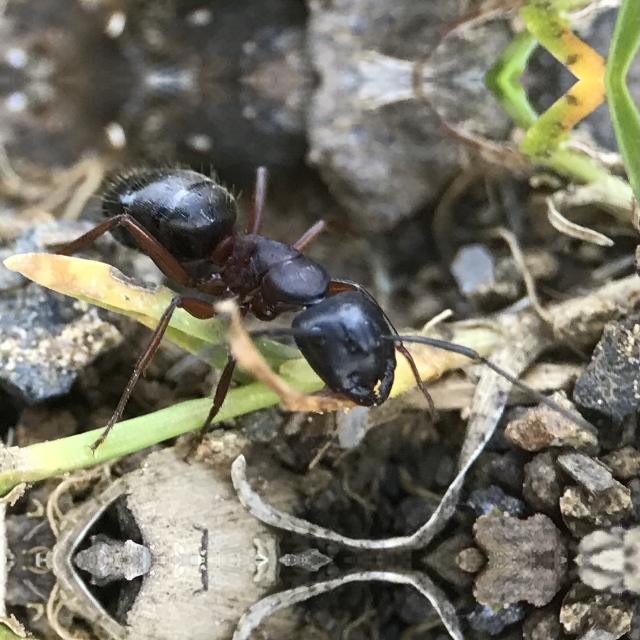Camponotus: (43, 114, 481, 442)
